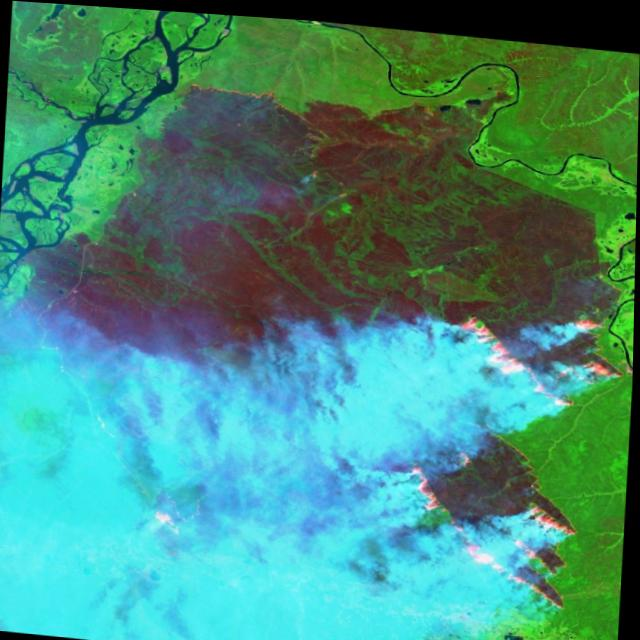fire: (146, 392, 584, 607), (451, 294, 632, 409)
